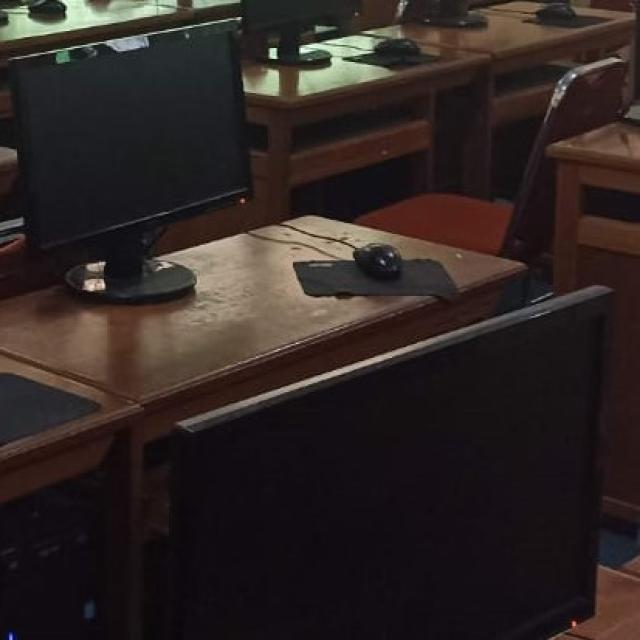onscreen: (10, 20, 251, 302)
